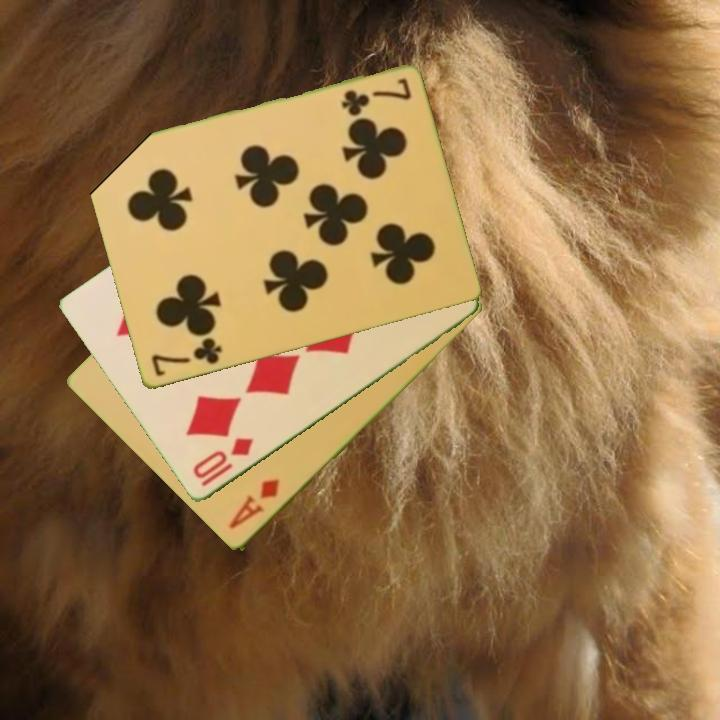10d: (189, 434, 257, 490)
7c: (147, 334, 225, 380), (337, 74, 414, 118)
Ad: (225, 476, 283, 533)
